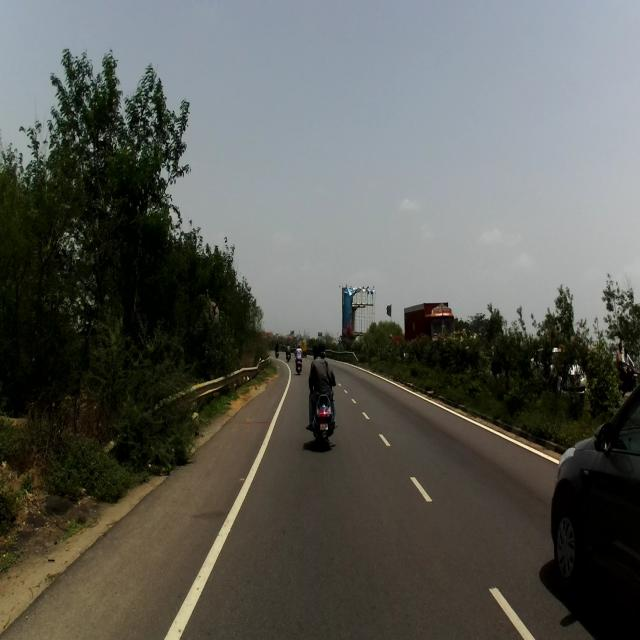Car: (528, 345, 587, 395)
Car_Maruti-Suzuki: (550, 379, 640, 596)
scooter: (309, 375, 337, 449)
